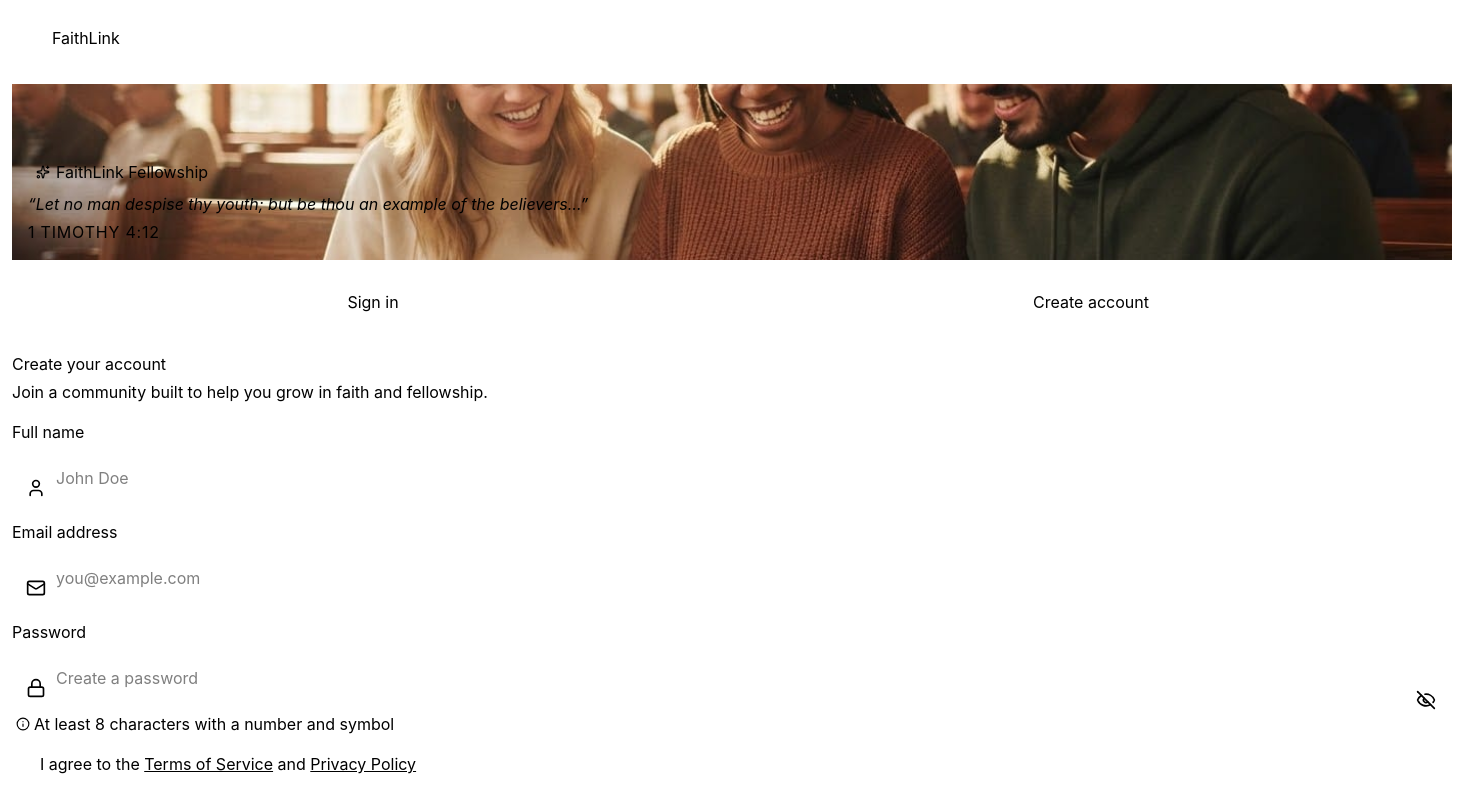
Test: Create account page › flags a weak password while typing and clears it once it meets the rule
The width and height of the screenshot is (1464, 797).
Type "short" into the password field labelled "Password".
click(732, 678); type("short")  # box [12,652,1452,704]
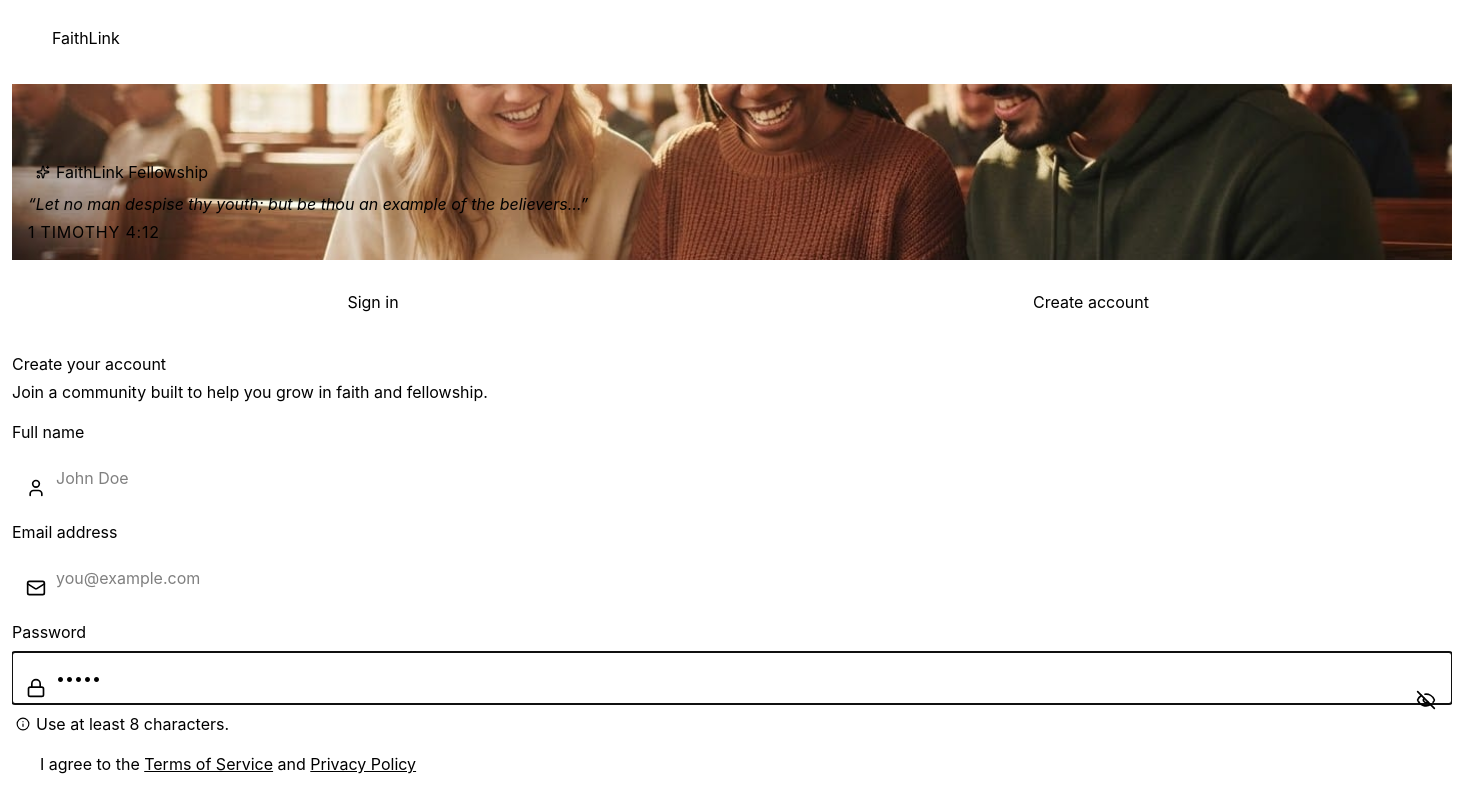
expect the text "Use at least 8 characters." is shown: met, box [16,714,229,734]
Type "er7!" into the password field labelled "Password".
click(732, 678); type("er7!")  # box [12,652,1452,704]
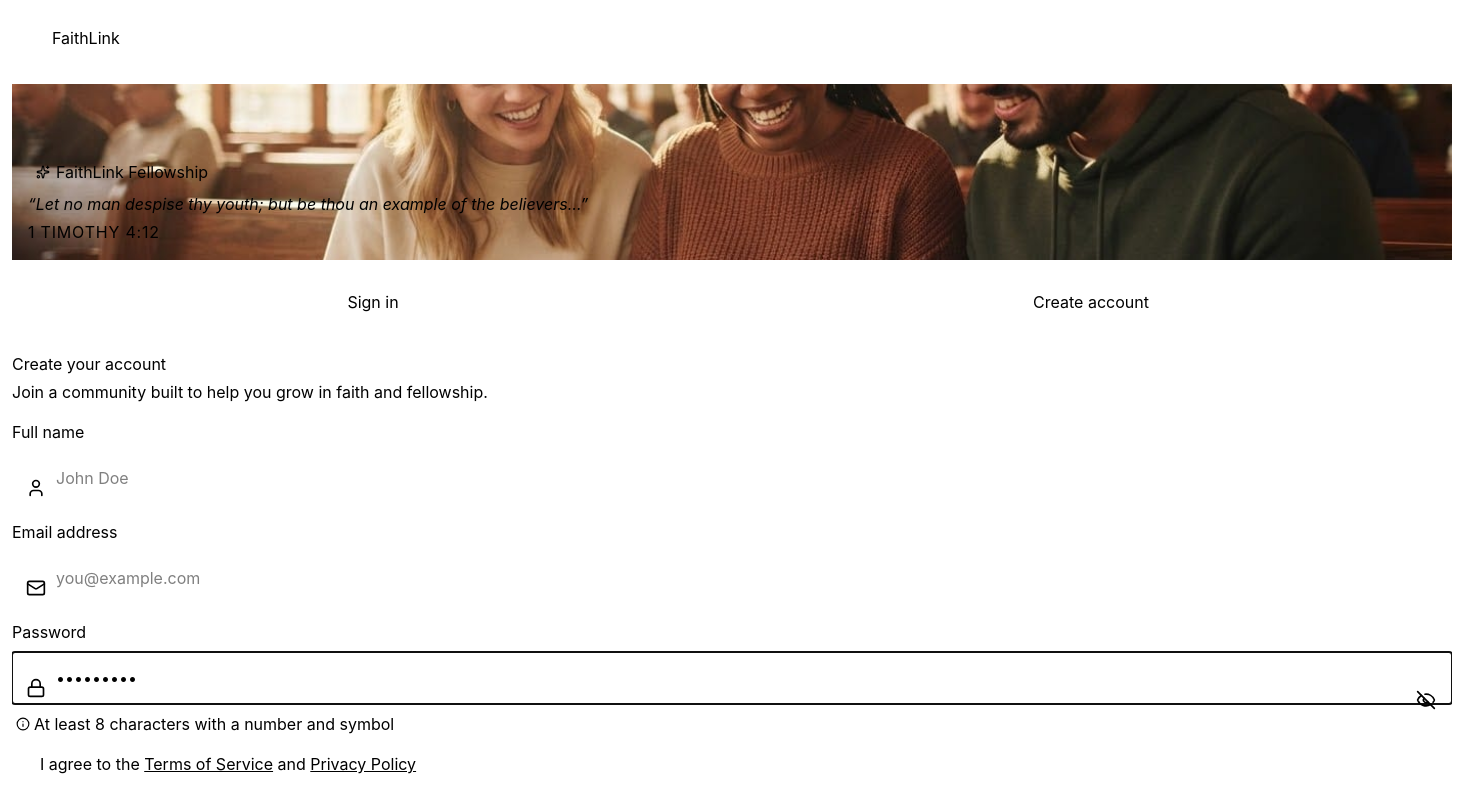
expect the text "Use at least 8 characters." is gone: met
